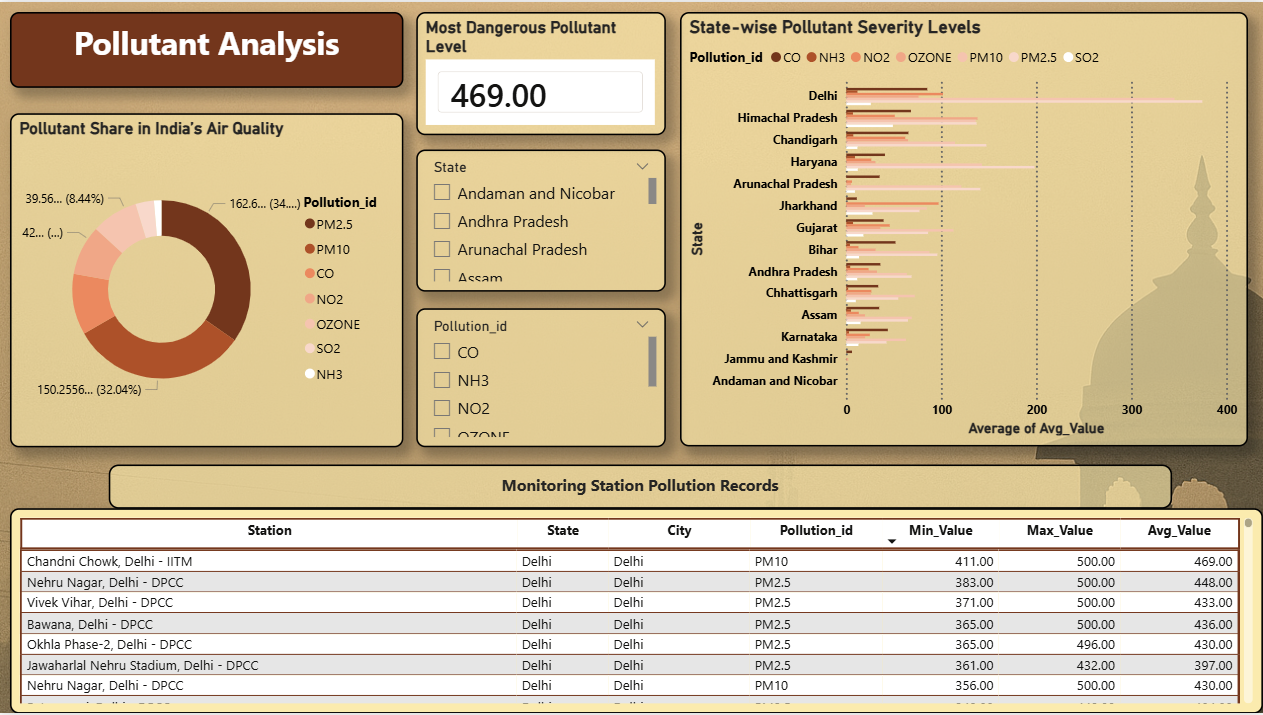

This screenshot's page, from the dashboard's own definition file:
{"tool":"powerbi","page":{"name":"Page 2","canvas":[1280,720],"ordinal":1},"visuals":[{"type":"clusteredColumnChart","title":"City-wise Pollutant Comparison","fields":{"Category":["3b01bcb8-0b14-4abf-b6f2-c1bfd384ba69.City"],"Series":["3b01bcb8-0b14-4abf-b6f2-c1bfd384ba69.Pollution_id"],"Y":["Avg(3b01bcb8-0b14-4abf-b6f2-c1bfd384ba69.Avg_Value)"]},"box":[11.1,72.2,377.8,327.8],"z":0},{"type":"donutChart","title":"Pollutant Share in India’s Air Quality","fields":{"Category":["3b01bcb8-0b14-4abf-b6f2-c1bfd384ba69.Pollution_id"],"Y":["Avg(3b01bcb8-0b14-4abf-b6f2-c1bfd384ba69.Avg_Value)"]},"box":[911.1,72.2,368.5,327.8],"z":1000},{"type":"clusteredBarChart","title":"State-wise Pollutant Severity Levels","fields":{"Category":["3b01bcb8-0b14-4abf-b6f2-c1bfd384ba69.State"],"Series":["3b01bcb8-0b14-4abf-b6f2-c1bfd384ba69.Pollution_id"],"Y":["Avg(3b01bcb8-0b14-4abf-b6f2-c1bfd384ba69.Avg_Value)"]},"box":[388.9,72.2,522.2,327.8],"z":2000},{"type":"tableEx","fields":{"Values":["3b01bcb8-0b14-4abf-b6f2-c1bfd384ba69.Station","3b01bcb8-0b14-4abf-b6f2-c1bfd384ba69.State","3b01bcb8-0b14-4abf-b6f2-c1bfd384ba69.City","3b01bcb8-0b14-4abf-b6f2-c1bfd384ba69.Pollution_id","3b01bcb8-0b14-4abf-b6f2-c1bfd384ba69.Min_Value","3b01bcb8-0b14-4abf-b6f2-c1bfd384ba69.Max_Value","3b01bcb8-0b14-4abf-b6f2-c1bfd384ba69.Avg_Value"]},"box":[11.1,559.3,1268.5,161.1],"z":3000},{"type":"textbox","box":[11.1,525.9,1253.7,33.3],"z":4000},{"type":"slicer","title":"Select State","fields":{"Values":["3b01bcb8-0b14-4abf-b6f2-c1bfd384ba69.State"]},"box":[1014.8,400,250,124.1],"z":5000},{"type":"slicer","title":"Select Pollutant","fields":{"Values":["3b01bcb8-0b14-4abf-b6f2-c1bfd384ba69.Pollution_id"]},"box":[779.6,400,235.2,125.9],"z":6000},{"type":"kpi","fields":{"Indicator":["3b01bcb8-0b14-4abf-b6f2-c1bfd384ba69.MostDangerousPollutantValue"]},"box":[99.6,271.6,251.7,128],"z":7000},{"type":"textbox","box":[10.7,0,1253,73],"z":8000},{"type":"cardVisual","fields":{"Data":["3b01bcb8-0b14-4abf-b6f2-c1bfd384ba69.MostDangerousPollutantValue"]},"box":[11.1,400,275.9,125.9],"z":9000},{"type":"cardVisual","fields":{"Data":["3b01bcb8-0b14-4abf-b6f2-c1bfd384ba69.MostPollutedCityValue"]},"box":[538.9,400,240.7,125.9],"z":10000},{"type":"cardVisual","fields":{"Data":["3b01bcb8-0b14-4abf-b6f2-c1bfd384ba69.MostPollutedStationValue"]},"box":[287,400,251.9,125.9],"z":11000}]}

Visuals, with their boxes in screenshot pixels (x1, y1, x2, y2), scaled from the page's 1280x720 canvas onto the 1263x715 screenshot:
"City-wise Pollutant Comparison" clusteredColumnChart: select_region(11, 72, 384, 397)
"Pollutant Share in India’s Air Quality" donutChart: select_region(899, 72, 1262, 397)
"State-wise Pollutant Severity Levels" clusteredBarChart: select_region(384, 72, 899, 397)
tableEx - 3b01bcb8-0b14-4abf-b6f2-c1bfd384ba69.Station x 3b01bcb8-0b14-4abf-b6f2-c1bfd384ba69.State: select_region(11, 555, 1262, 714)
textbox: select_region(11, 522, 1248, 555)
"Select State" slicer: select_region(1001, 397, 1248, 520)
"Select Pollutant" slicer: select_region(769, 397, 1001, 522)
kpi - 3b01bcb8-0b14-4abf-b6f2-c1bfd384ba69.MostDangerousPollutantValue: select_region(98, 270, 347, 397)
textbox: select_region(11, 0, 1247, 72)
cardVisual - 3b01bcb8-0b14-4abf-b6f2-c1bfd384ba69.MostDangerousPollutantValue: select_region(11, 397, 283, 522)
cardVisual - 3b01bcb8-0b14-4abf-b6f2-c1bfd384ba69.MostPollutedCityValue: select_region(532, 397, 769, 522)
cardVisual - 3b01bcb8-0b14-4abf-b6f2-c1bfd384ba69.MostPollutedStationValue: select_region(283, 397, 532, 522)
